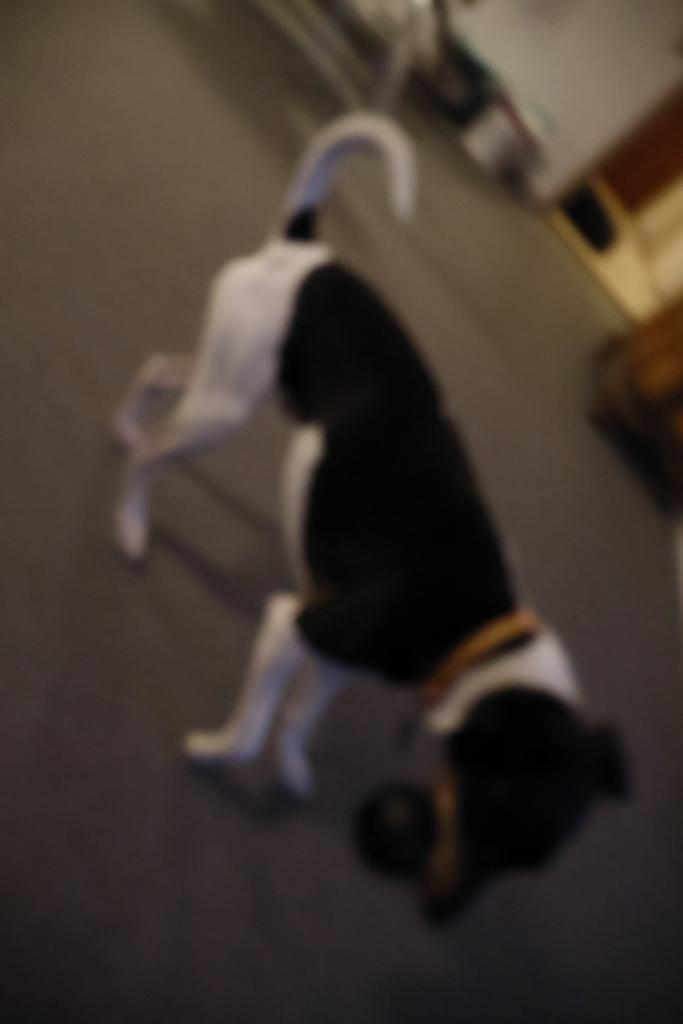Dog: (103, 95, 656, 949)
